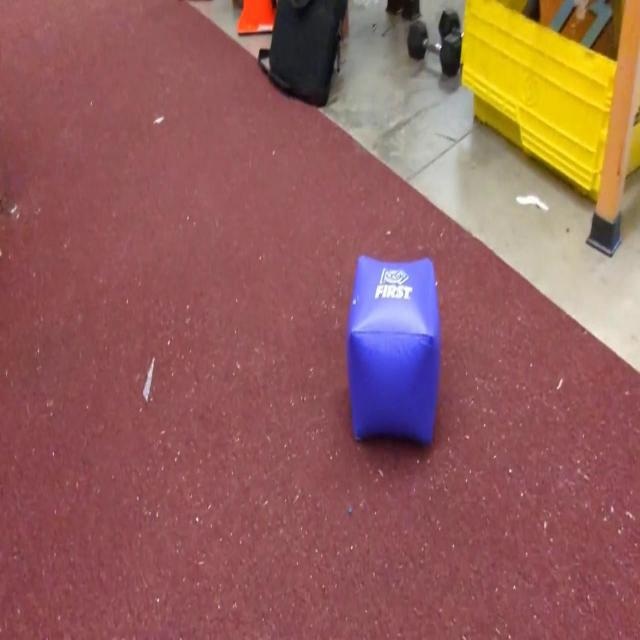frc_cube: (344, 254, 441, 447)
